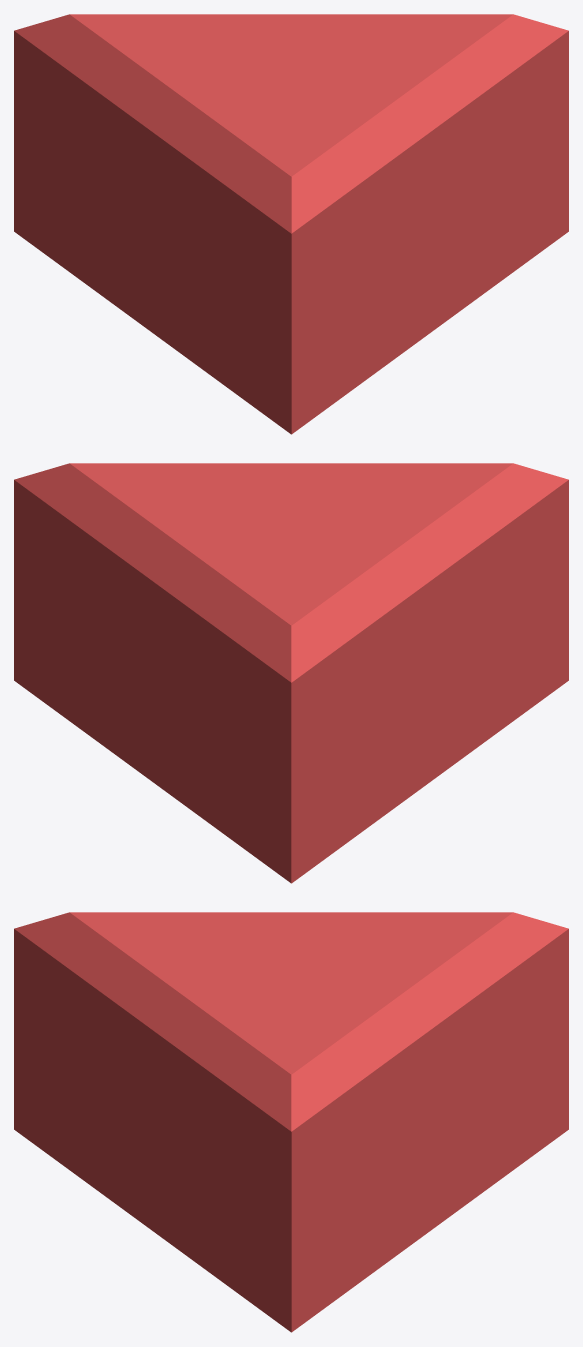
The model's file is BtnTri03.fbx.
The picture shows the model from 3 angles, top to bottom: view 1: azimuth 30°, elevation 25°; view 2: azimuth 150°, elevation 25°; view 3: azimuth 270°, elevation 25°; orthographic projection.
Parts seen in each view (by area): view 1: BtnTri03; view 2: BtnTri03; view 3: BtnTri03.
Boxes of the visible parts, x1,y1,x2,y2 form: BtnTri03: [14, 14, 568, 434]; BtnTri03: [14, 463, 568, 883]; BtnTri03: [14, 912, 568, 1332].
Bounding box in the file's own units: 1.89 × 1 × 2.18.
